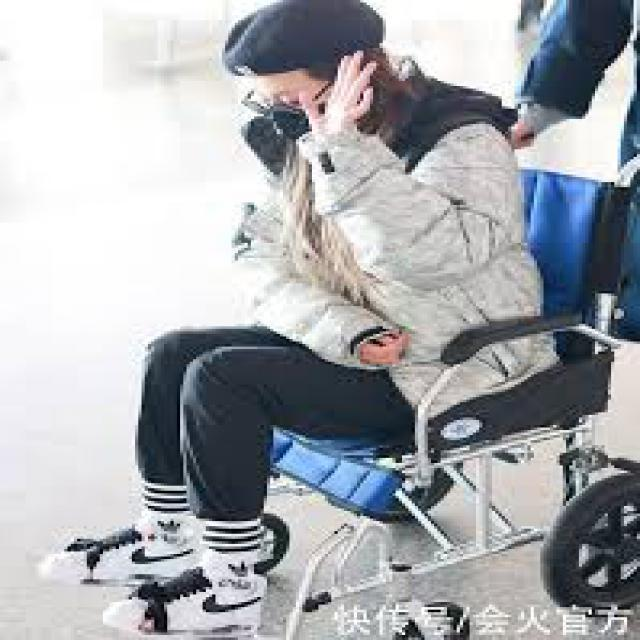wheelchairs: (180, 144, 637, 638)
